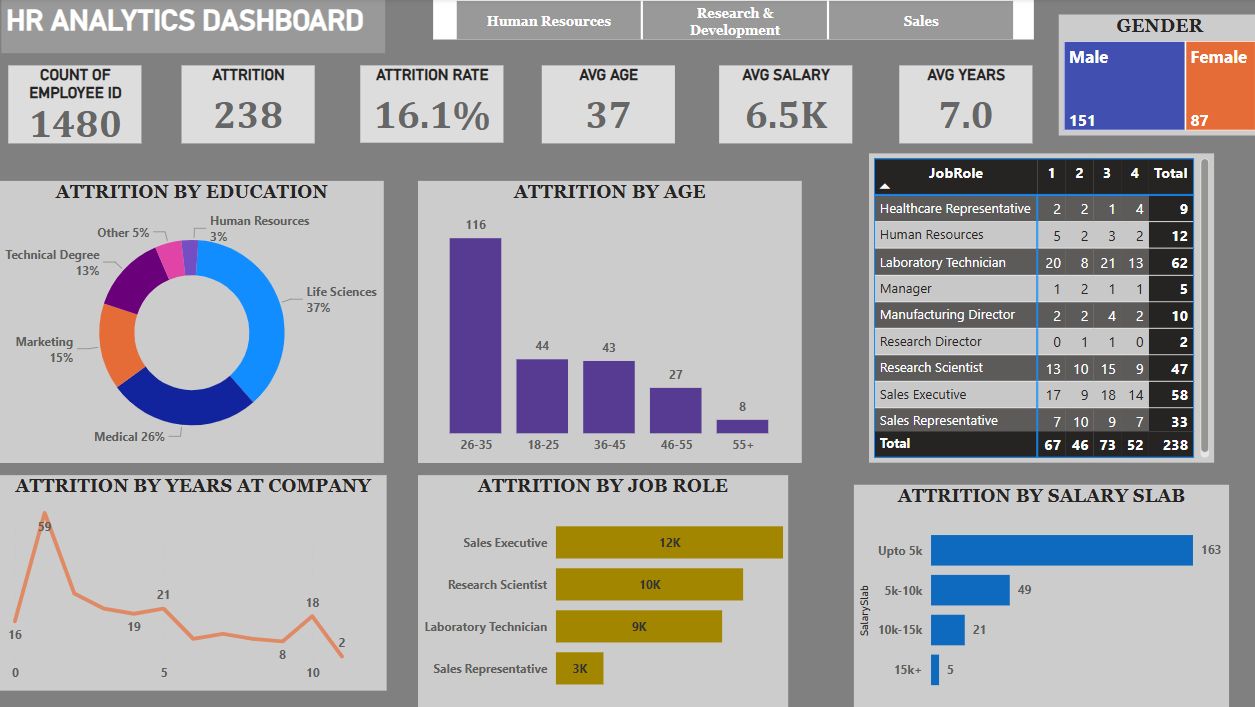

The dashboard page shown, as its layout file describes it:
{"tool":"powerbi","page":{"name":"Page 1","canvas":[1280,720],"ordinal":0},"visuals":[{"type":"card","title":"COUNT OF EMPLOYEE ID","fields":{"Values":["CountNonNull(HR_Analytics.EmpID)"]},"box":[8.4,68.4,135.5,79.6],"z":0},{"type":"card","title":"ATTRITION","fields":{"Values":["Sum(HR_Analytics.AttritionCount)"]},"box":[184.7,68.1,135,79],"z":1000},{"type":"card","title":"ATTRITION RATE","fields":{"Values":["HR_Analytics.AttritionRate"]},"box":[365.9,68.4,145.2,78.2],"z":2000},{"type":"card","title":"AVG AGE","fields":{"Values":["Avg(HR_Analytics.Age)"]},"box":[550.6,68.1,135,79],"z":3000},{"type":"card","title":"AVG SALARY","fields":{"Values":["Avg(HR_Analytics.MonthlyIncome)"]},"box":[730.8,68.1,135,79],"z":4000},{"type":"card","title":"AVG YEARS","fields":{"Values":["Avg(HR_Analytics.YearsAtCompany)"]},"box":[913.8,68.1,135,79],"z":5000},{"type":"donutChart","title":"ATTRITION BY EDUCATION","fields":{"Category":["HR_Analytics.EducationField"],"Y":["Sum(HR_Analytics.AttritionCount)"]},"box":[0,185.8,389.7,286.3],"z":6000},{"type":"columnChart","title":"ATTRITION BY AGE","fields":{"Y":["Sum(HR_Analytics.AttritionCount)"],"Category":["HR_Analytics.AgeGroup"]},"box":[424.6,185.8,389.7,286.3],"z":7000},{"type":"pivotTable","title":"ATTRITION BY AGE","fields":{"Columns":["HR_Analytics.JobSatisfaction"],"Values":["Sum(HR_Analytics.AttritionCount)"],"Rows":["HR_Analytics.JobRole"]},"box":[882.7,157.8,350.6,314.2],"z":8000},{"type":"clusteredBarChart","title":"ATTRITION BY SALARY SLAB","fields":{"Category":["HR_Analytics.SalarySlab"],"Y":["Sum(HR_Analytics.AttritionCount)"]},"box":[867.3,494.4,381.3,226.3],"z":9000},{"type":"clusteredBarChart","title":"ATTRITION BY JOB ROLE","fields":{"Category":["HR_Analytics.JobRole"],"Y":["Sum(HR_Analytics.Age)"]},"box":[424.6,484.6,375.7,236],"z":10000},{"type":"treemap","title":"GENDER","fields":{"Group":["HR_Analytics.Gender"],"Values":["Sum(HR_Analytics.AttritionCount)"]},"box":[1075.4,16.8,205.3,122.9],"z":11000},{"type":"lineChart","title":"ATTRITION BY YEARS AT COMPANY","fields":{"Category":["HR_Analytics.YearsAtCompany"],"Y":["Sum(HR_Analytics.AttritionCount)"]},"box":[0,484.6,392.4,219.3],"z":12000},{"type":"slicer","fields":{"Values":["HR_Analytics.Department"]},"box":[439.9,0,610.3,41.9],"z":13000},{"type":"textbox","box":[2,0,389.7,55.9],"z":14000}]}

Visuals, with their boxes in screenshot pixels (x1, y1, x2, y2), scaled from the page's 1280x720 canvas onto the 1255x707 screenshot:
"COUNT OF EMPLOYEE ID" card: {"x1": 8, "y1": 67, "x2": 141, "y2": 145}
"ATTRITION" card: {"x1": 181, "y1": 67, "x2": 313, "y2": 144}
"ATTRITION RATE" card: {"x1": 359, "y1": 67, "x2": 501, "y2": 144}
"AVG AGE" card: {"x1": 540, "y1": 67, "x2": 672, "y2": 144}
"AVG SALARY" card: {"x1": 717, "y1": 67, "x2": 849, "y2": 144}
"AVG YEARS" card: {"x1": 896, "y1": 67, "x2": 1028, "y2": 144}
"ATTRITION BY EDUCATION" donutChart: {"x1": 0, "y1": 182, "x2": 382, "y2": 464}
"ATTRITION BY AGE" columnChart: {"x1": 416, "y1": 182, "x2": 798, "y2": 464}
"ATTRITION BY AGE" pivotTable: {"x1": 865, "y1": 155, "x2": 1209, "y2": 463}
"ATTRITION BY SALARY SLAB" clusteredBarChart: {"x1": 850, "y1": 485, "x2": 1224, "y2": 706}
"ATTRITION BY JOB ROLE" clusteredBarChart: {"x1": 416, "y1": 476, "x2": 785, "y2": 706}
"GENDER" treemap: {"x1": 1054, "y1": 16, "x2": 1254, "y2": 137}
"ATTRITION BY YEARS AT COMPANY" lineChart: {"x1": 0, "y1": 476, "x2": 385, "y2": 691}
slicer - HR_Analytics.Department: {"x1": 431, "y1": 0, "x2": 1030, "y2": 41}
textbox: {"x1": 2, "y1": 0, "x2": 384, "y2": 55}
